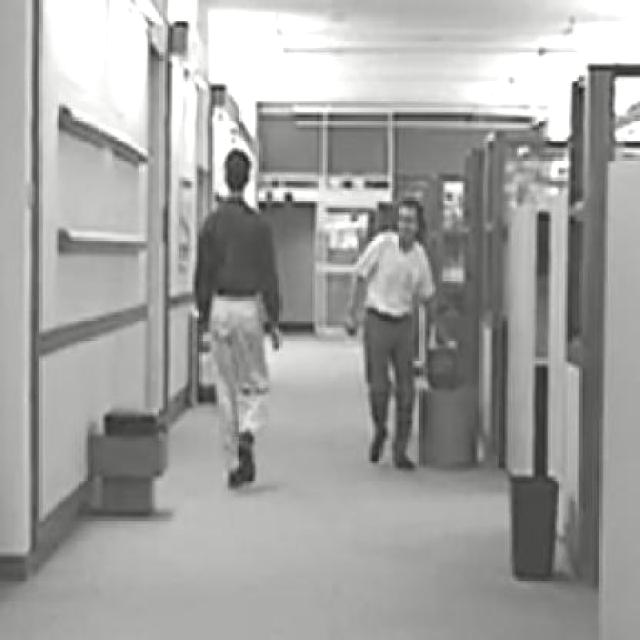Person: (190, 138, 286, 510), (348, 202, 444, 473)
